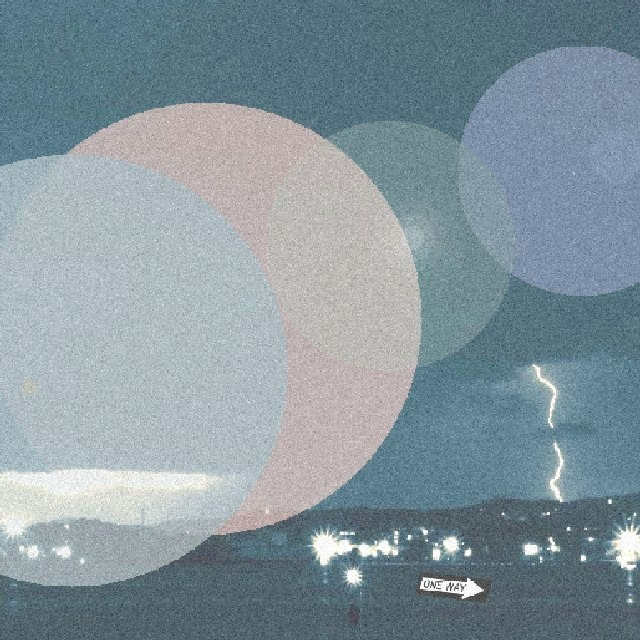ONE_WAY_ right: (413, 570, 491, 602)
